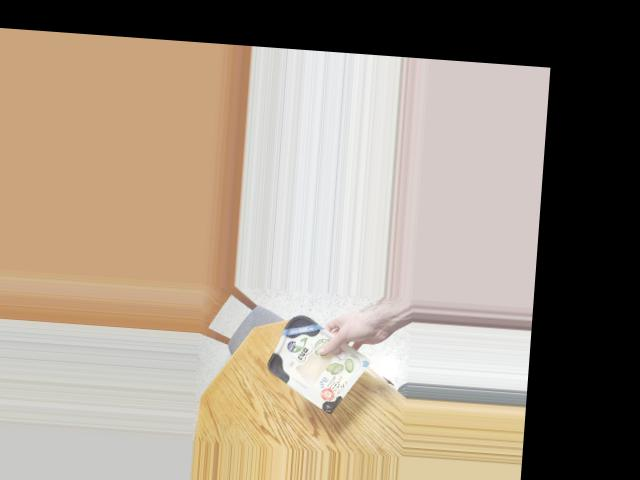cheese: (257, 312, 359, 407)
